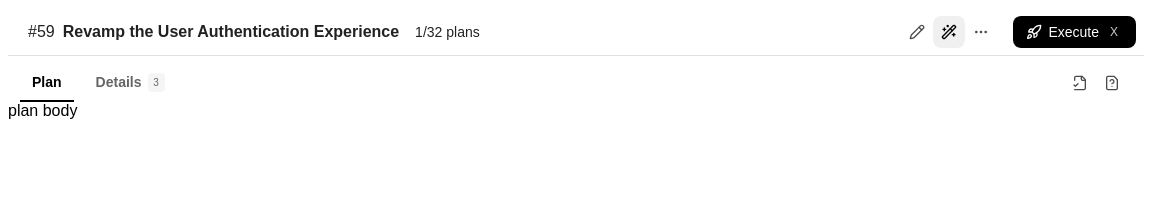
it: PlanWorkspace › opens the verifications and questions dropdowns from the tab strip corner
The width and height of the screenshot is (1152, 205).
expect the text "verification rows" is not shown: met
Click the button named "Verifications" at (1080,83), box [1068,71,1092,95]
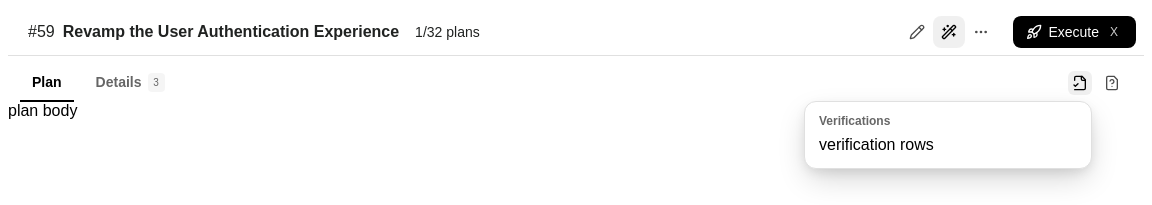
expect the text "verification rows" is shown: met, box [819,136,934,153]
Click the button named "Questions" at (1112,83), box [1100,71,1124,95]
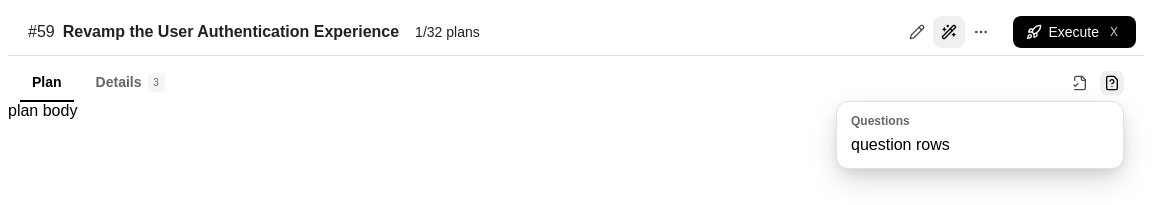
expect the text "verification rows" is gone: met
expect the text "question rows" is shown: met, box [851,136,950,153]
Press Escape
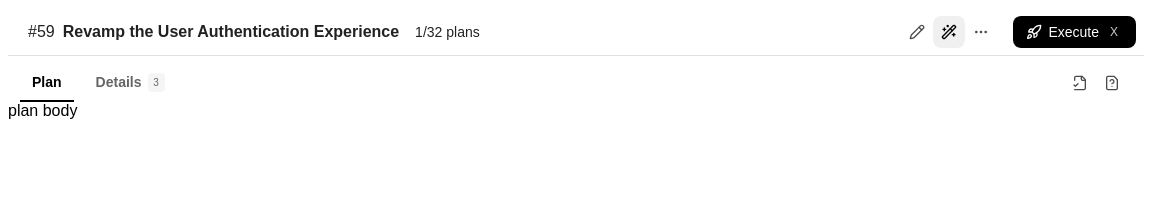
expect the text "question rows" is gone: met
